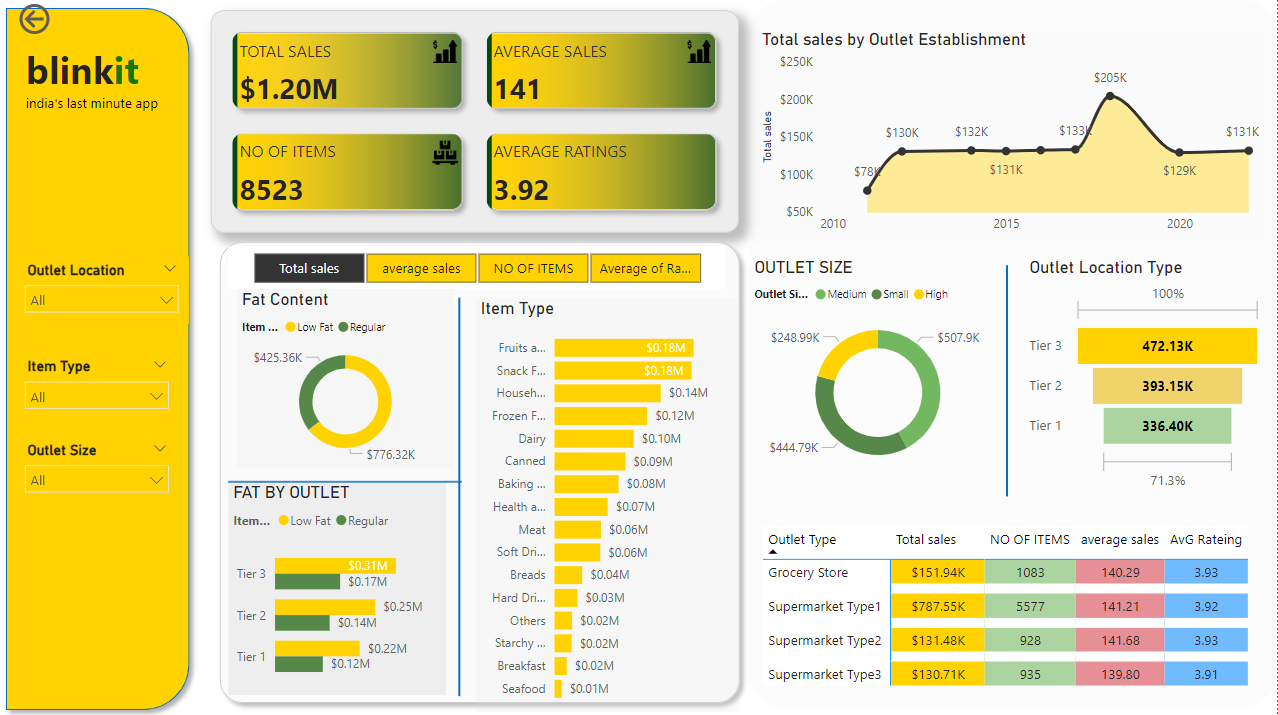

The dashboard page shown, as its layout file describes it:
{"tool":"powerbi","page":{"name":"Page 1","canvas":[1280,720],"ordinal":0},"visuals":[{"type":"shape","box":[0,0,201.4,720],"z":0},{"type":"textbox","box":[23.3,39.8,163.3,96.1],"z":1000},{"type":"cardVisual","fields":{"Data":["BlinkIT Grocery Data.Total sales","BlinkIT Grocery Data.average sales","BlinkIT Grocery Data.NO OF ITEMS","BlinkIT Grocery Data.Average of Rating"]},"box":[214.1,11,528.3,222.3],"z":2000},{"type":"shape","box":[214,233.6,538,479.4],"z":3000},{"type":"donutChart","title":" Fat Content","fields":{"Y":["BlinkIT Grocery Data.Total sales"],"Category":["BlinkIT Grocery Data.Item Fat Content"]},"box":[240,290,217.1,178.6],"z":4000},{"type":"slicer","fields":{"Values":["Metrice.Metrice"]},"box":[231.1,247,496.5,42.8],"z":5000},{"type":"clusteredBarChart","title":"FAT BY OUTLET","fields":{"Y":["BlinkIT Grocery Data.Total sales"],"Category":["BlinkIT Grocery Data.Outlet Location Type"],"Series":["BlinkIT Grocery Data.Item Fat Content"]},"box":[231.1,483,217.7,214],"z":6000},{"type":"shape","box":[231.1,467.1,233.6,30.6],"z":7000},{"type":"shape","box":[454.9,298.4,14.7,398.6],"z":8000},{"type":"barChart","title":"Item Type","fields":{"Y":["BlinkIT Grocery Data.Total sales"],"Category":["BlinkIT Grocery Data.Item Type"]},"box":[478.1,298.4,264.1,414.5],"z":9000},{"type":"shape","box":[752,0,528.3,709.2],"z":10000},{"type":"lineChart","fields":{"Category":["BlinkIT Grocery Data.Outlet Establishment Year"],"Y":["BlinkIT Grocery Data.Total sales"]},"box":[760,30,510,212.9],"z":11000},{"type":"donutChart","title":"OUTLET SIZE","fields":{"Y":["BlinkIT Grocery Data.Total sales"],"Category":["BlinkIT Grocery Data.Outlet Size"]},"box":[752.9,257.1,257.1,225.7],"z":12000},{"type":"shape","box":[980,265.7,60,231.4],"z":13000},{"type":"funnel","title":" Outlet Location Type","fields":{"Y":["Sum(BlinkIT Grocery Data.Sales)"],"Category":["BlinkIT Grocery Data.Outlet Location Type"]},"box":[1027.1,257.1,242.9,240],"z":14000},{"type":"pivotTable","fields":{"Rows":["BlinkIT Grocery Data.Outlet Type"],"Values":["BlinkIT Grocery Data.Total sales","BlinkIT Grocery Data.NO OF ITEMS","BlinkIT Grocery Data.average sales","BlinkIT Grocery Data.Average of Rating"]},"box":[761.8,522.1,506.3,190.8],"z":15000},{"type":"actionButton","box":[17.1,0,100,40],"z":16000},{"type":"slicer","fields":{"Values":["BlinkIT Grocery Data.Outlet Location Type"]},"box":[17.1,257.1,174.3,67.1],"z":17000},{"type":"slicer","fields":{"Values":["BlinkIT Grocery Data.Item Type"]},"box":[17.1,354.3,164.3,68.6],"z":18000},{"type":"slicer","fields":{"Values":["BlinkIT Grocery Data.Outlet Size"]},"box":[17.1,437.1,164.3,68.6],"z":19000}]}

Visuals, with their boxes in screenshot pixels (x1, y1, x2, y2), scaled from the page's 1280x720 canvas onto the 1278x715 screenshot:
shape: 0 0 201 714
textbox: 23 40 186 135
cardVisual - BlinkIT Grocery Data.Total sales x BlinkIT Grocery Data.average sales: 214 11 741 232
shape: 214 232 751 708
" Fat Content" donutChart: 240 288 456 465
slicer - Metrice.Metrice: 231 245 726 288
"FAT BY OUTLET" clusteredBarChart: 231 480 448 692
shape: 231 464 464 494
shape: 454 296 469 692
"Item Type" barChart: 477 296 741 708
shape: 751 0 1277 704
lineChart - BlinkIT Grocery Data.Outlet Establishment Year x BlinkIT Grocery Data.Total sales: 759 30 1268 241
"OUTLET SIZE" donutChart: 752 255 1008 479
shape: 978 264 1038 494
" Outlet Location Type" funnel: 1025 255 1268 494
pivotTable - BlinkIT Grocery Data.Outlet Type x BlinkIT Grocery Data.Total sales: 761 518 1266 708
actionButton: 17 0 117 40
slicer - BlinkIT Grocery Data.Outlet Location Type: 17 255 191 322
slicer - BlinkIT Grocery Data.Item Type: 17 352 181 420
slicer - BlinkIT Grocery Data.Outlet Size: 17 434 181 502
